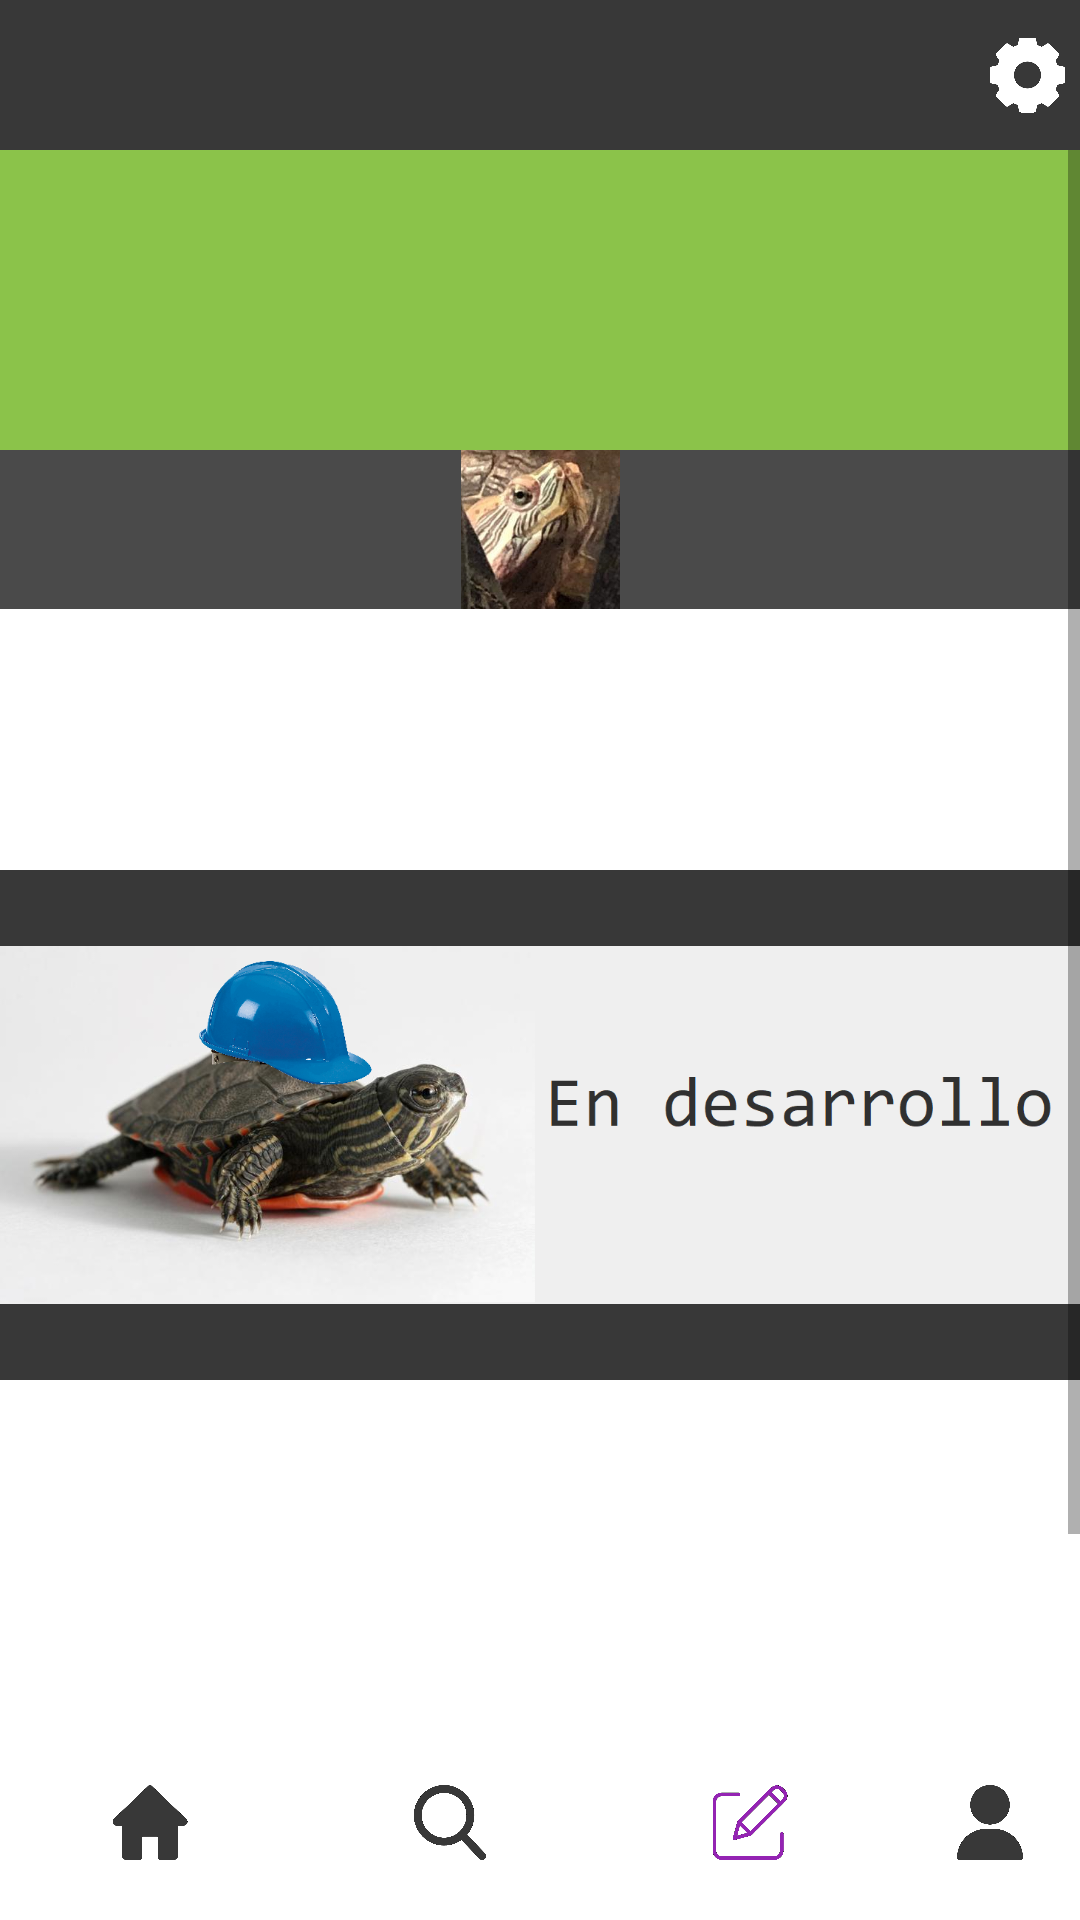

Locate icon controls on the screen. Image size 1080w x 1920h, boxes as (x1,y1,x2,y2).
edit: (713,1785,788,1860)
home: (113,1785,188,1860)
search: (414,1785,486,1860)
setting: (990,38,1065,113)
user: (957,1785,1023,1860)
